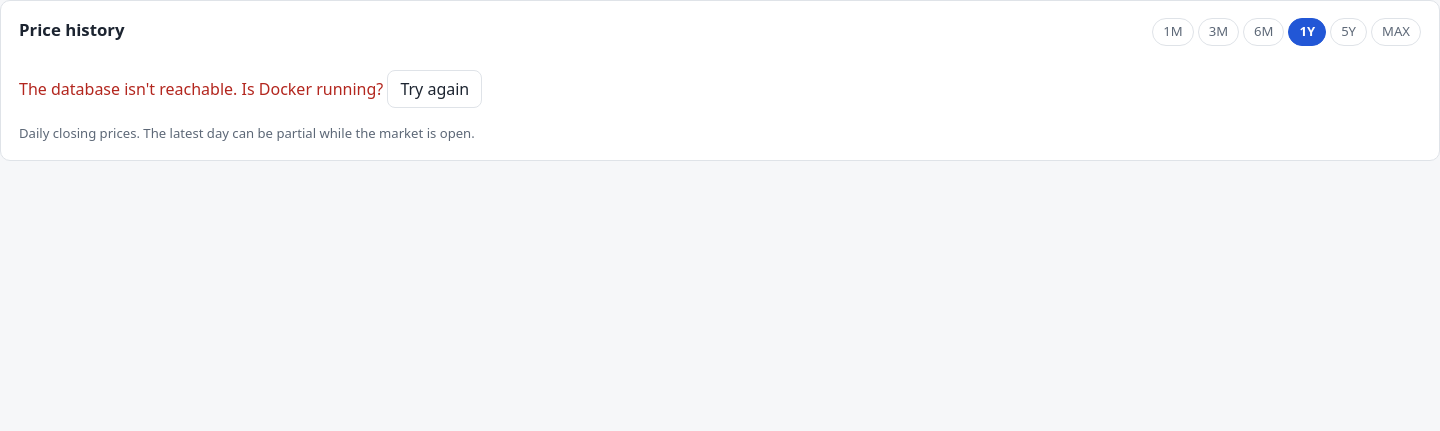
Scenario: PriceHistory › shows an error and retries
Expected: the message shows "database isn't reachable", [19,78,383,100]
Click the button "Try again" at (435, 89), box [387,70,482,108]
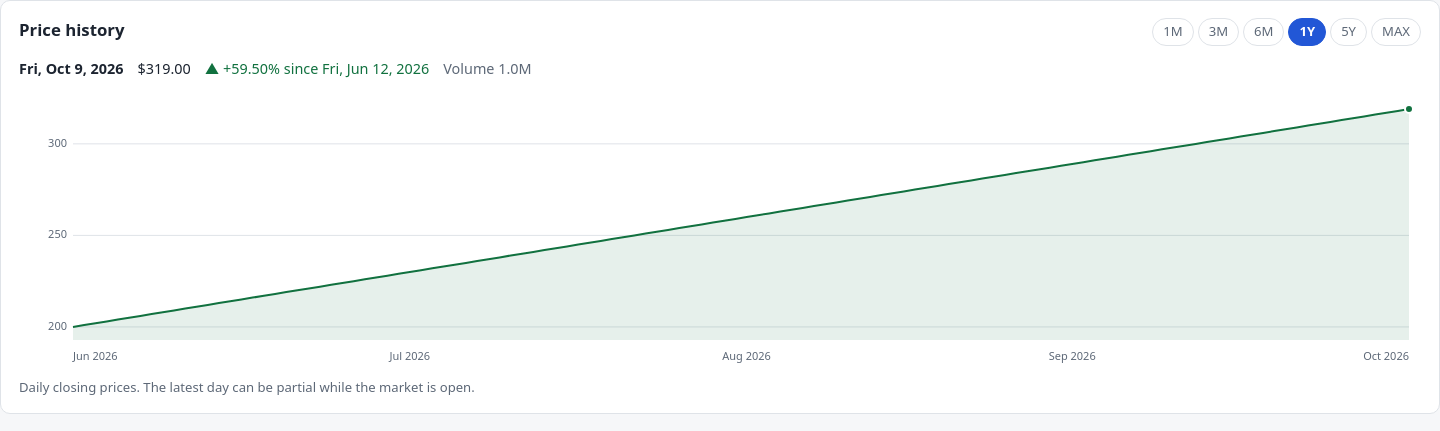
Expected: the picture named "AAPL closing price" is shown
